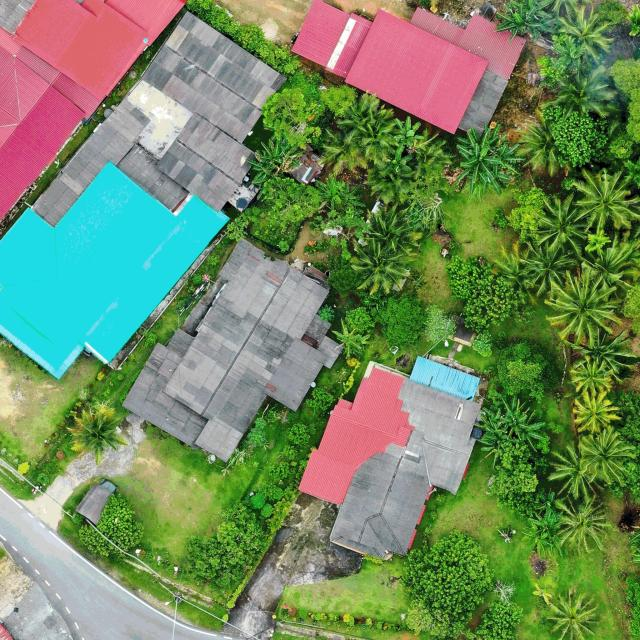Tree: (401, 529, 496, 640), (182, 502, 269, 589), (444, 255, 527, 332), (544, 270, 620, 344), (455, 123, 526, 202), (562, 164, 639, 235), (78, 490, 146, 557), (552, 489, 618, 556), (545, 64, 617, 124), (346, 238, 416, 297), (545, 104, 609, 168), (494, 336, 555, 402), (569, 325, 639, 380), (64, 406, 128, 466), (493, 439, 542, 517), (262, 87, 322, 149), (530, 193, 590, 254), (580, 235, 640, 295), (546, 437, 600, 501), (535, 588, 599, 640), (343, 109, 399, 167), (579, 426, 633, 485), (364, 202, 424, 255), (514, 119, 568, 176), (375, 290, 428, 348), (522, 236, 574, 294), (260, 177, 322, 225), (558, 6, 615, 55), (494, 0, 555, 43), (506, 185, 549, 242), (319, 125, 365, 177), (572, 388, 622, 434), (474, 599, 523, 640), (330, 318, 371, 358), (570, 358, 612, 396), (314, 172, 356, 208), (424, 302, 459, 344), (500, 394, 530, 442), (246, 150, 284, 186), (479, 429, 512, 468), (473, 408, 509, 442), (521, 518, 551, 558), (520, 413, 548, 453), (393, 115, 425, 147), (534, 491, 558, 533), (258, 138, 291, 167), (335, 183, 366, 211), (345, 306, 375, 334), (306, 385, 336, 413), (385, 146, 416, 173), (280, 138, 305, 166), (287, 422, 312, 447), (268, 461, 290, 481)
